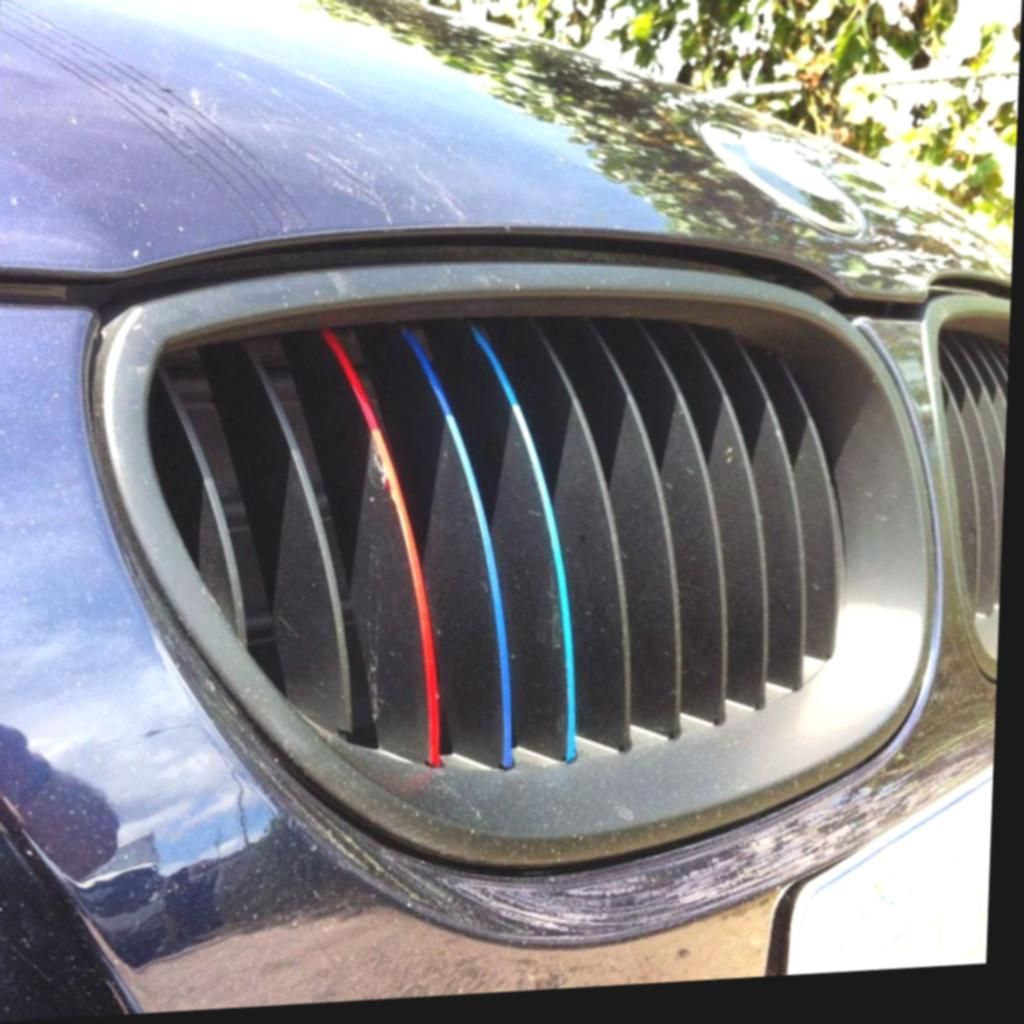License_Plate: (782, 768, 993, 975)
